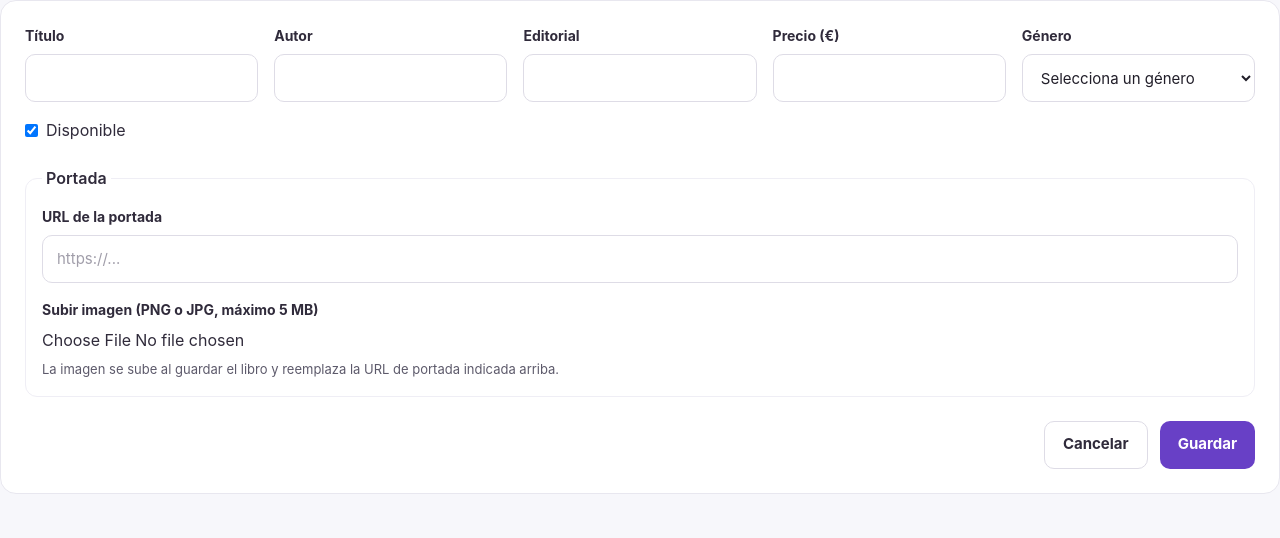
Test: BookForm › create mode › rejects a price of -5
The image size is (1280, 538).
Type "-5" into the number field labelled "Precio (€)" at (889, 78), box [773, 54, 1006, 102]
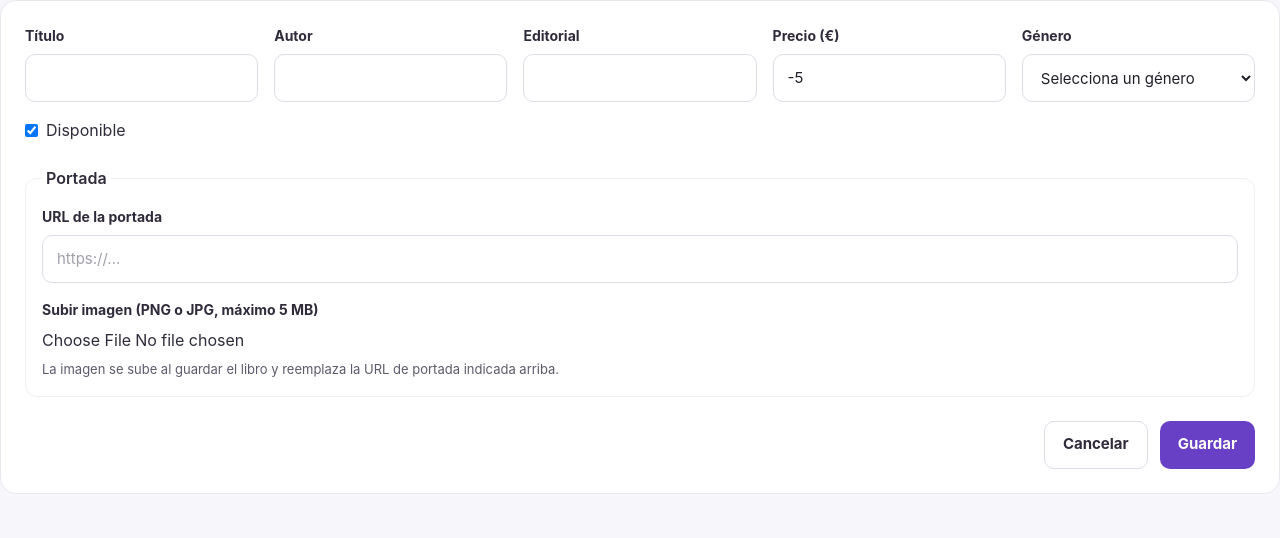
Leave the number field labelled "Precio (€)", box [773, 54, 1006, 102]
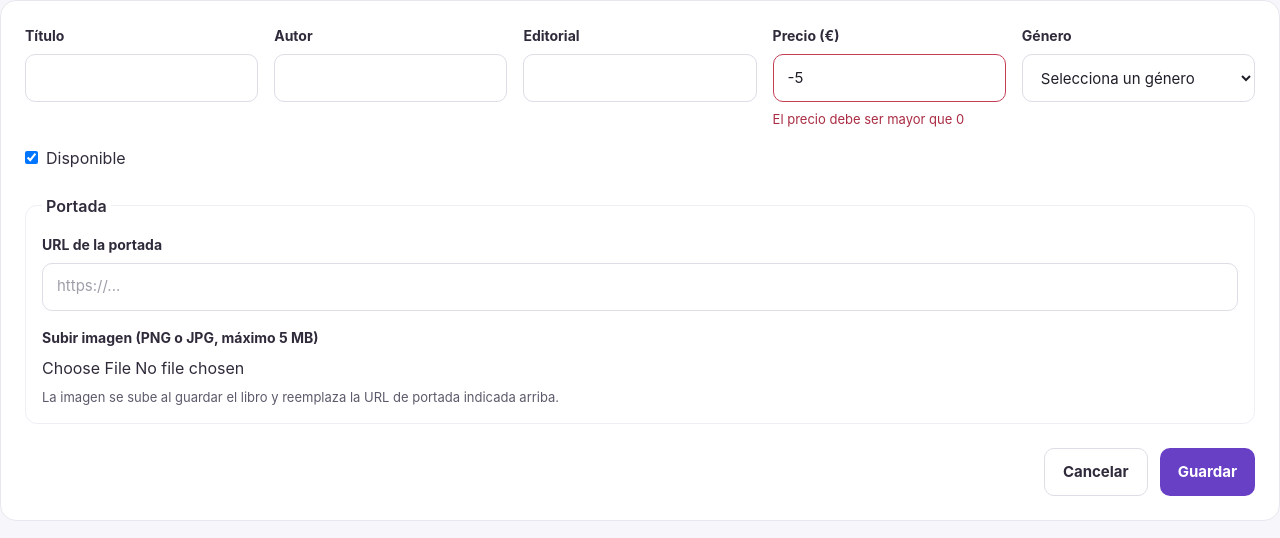
Expected: the text "El precio debe ser mayor que 0" is shown, [773, 111, 964, 127]
